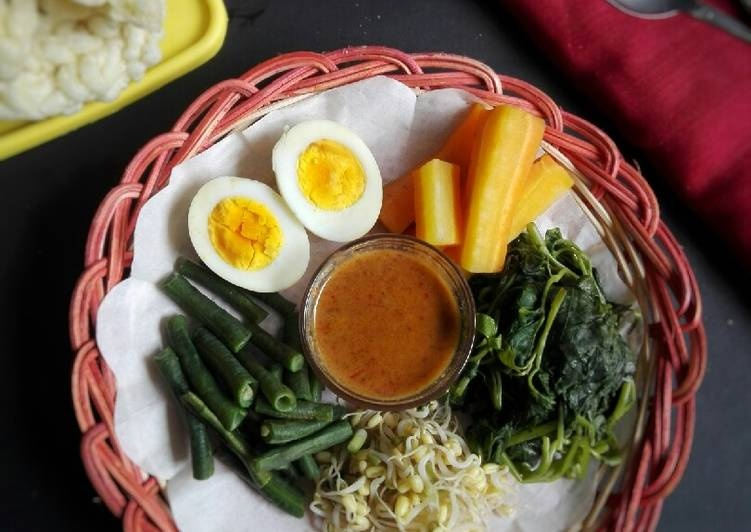pecel: (162, 153, 609, 517)
